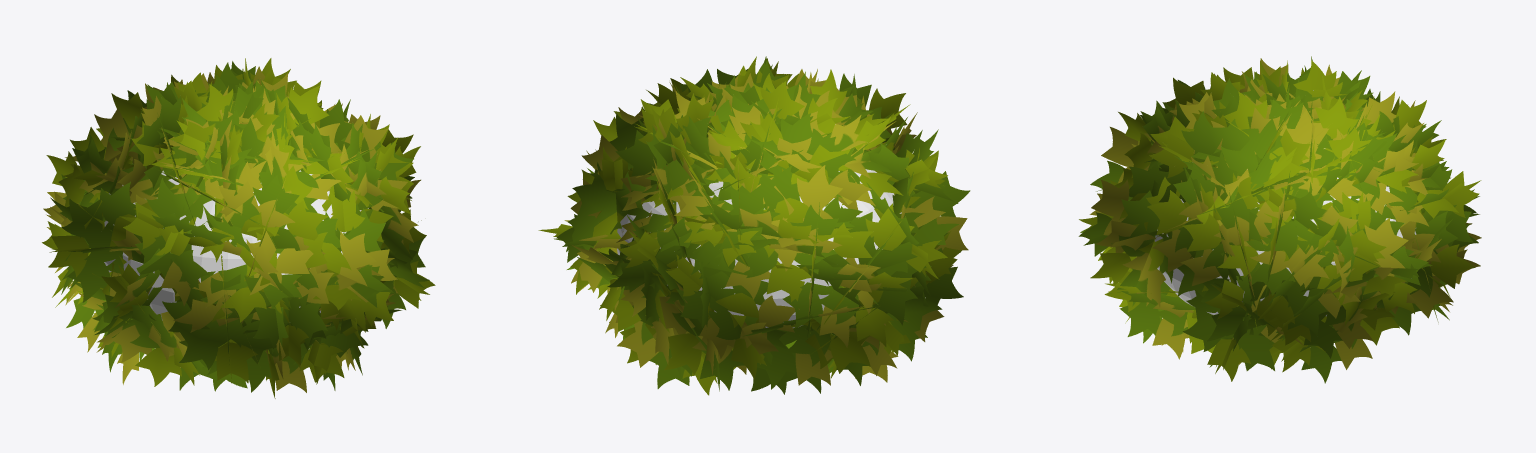
File: bush2.fbx
3 renders of one model, left to right at view 1: azimuth 30°, elevation 25°; view 2: azimuth 150°, elevation 25°; view 3: azimuth 270°, elevation 25°, orthographic. The views are drawn at different scales.
Visible parts, largest first — view 1: bush, Sphere, Leaf; view 2: bush, Sphere, Leaf; view 3: bush, Sphere.
Boxes of the visible parts, left/top/right/bottom form: bush: left=42, top=58, right=435, bottom=398; Sphere: left=104, top=170, right=368, bottom=320; Leaf: left=179, top=367, right=247, bottom=391; bush: left=538, top=56, right=970, bottom=395; Sphere: left=617, top=169, right=901, bottom=328; Leaf: left=716, top=340, right=821, bottom=394; bush: left=1078, top=56, right=1481, bottom=383; Sphere: left=1154, top=177, right=1416, bottom=316.
Size of the model in its own units: 248 by 206 by 251.
